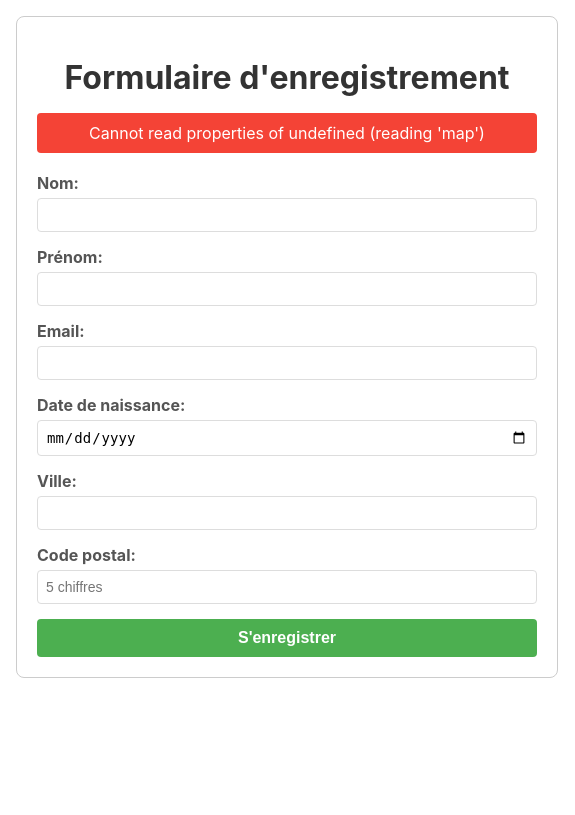
Test: RegisterPage Component › Form Validation › should show error for empty nom
Click the button "S'enregistrer" at (287, 638), box [37,619,537,657]
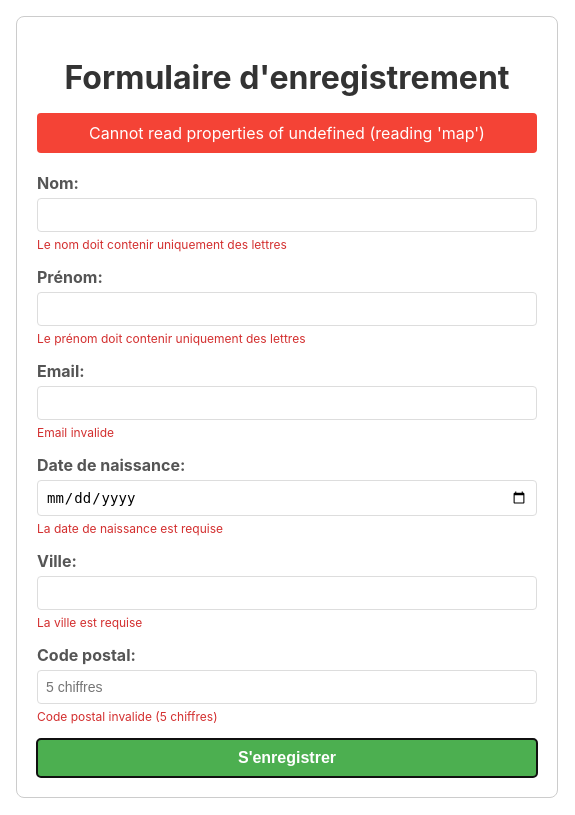
Now the text "Le nom doit contenir uniquement des lettres" is shown, box [37,237,287,252]
